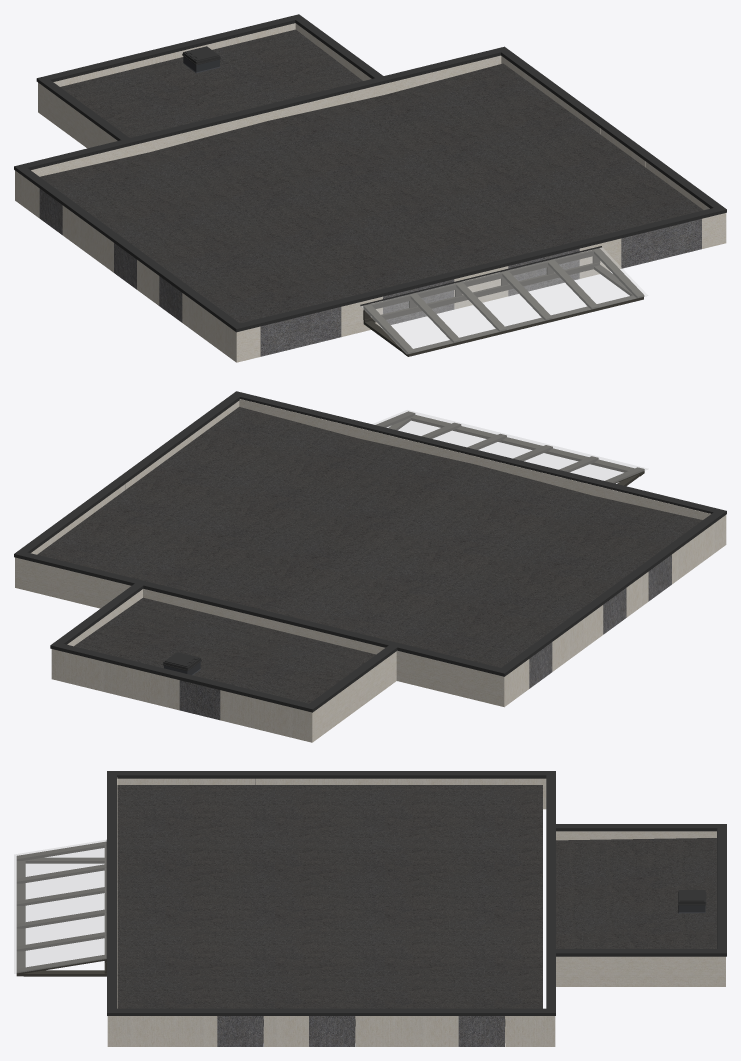
The model's file is Katused v1.glb.
3 views of the same model, one above another, from view 1: azimuth 30°, elevation 25°; view 2: azimuth 150°, elevation 25°; view 3: azimuth 270°, elevation 25° (orthographic).
Visible parts, largest first — view 1: Box201, Kiudtsementplaat_083, Rectangle010, Box200, Box198, Kiudtsementplaat_082, Box195, Box196 (×2), Box192; view 2: Box201, Kiudtsementplaat_083, Rectangle010, Box200, Kiudtsementplaat_082, Box198, Box195, Box192; view 3: Box201, Kiudtsementplaat_083, Box200, Rectangle010, Box198, Kiudtsementplaat_082, Box195, Box193 (×2), Box192, Object005.
Part boxes in pixels (x1,y1,x2,y2): Box201: (40,63,703,323); Kiudtsementplaat_083: (15,55,726,362); Rectangle010: (14,14,726,332); Box200: (60,29,362,137); Box198: (361,247,647,354); Kiudtsementplaat_082: (38,23,371,148); Box195: (363,248,644,354); Box196 (×2): (363,250,599,322); Box192: (403,295,643,356); Box201: (37,407,702,667); Kiudtsementplaat_083: (15,399,726,707); Rectangle010: (14,391,726,712); Box200: (74,597,375,703); Kiudtsementplaat_082: (51,589,396,742); Box198: (373,410,647,482); Box195: (376,411,644,483); Box192: (411,415,644,476); Box201: (117,785,542,1026); Kiudtsementplaat_083: (107,777,555,1046); Box200: (556,838,716,948); Rectangle010: (107,771,726,1015); Box198: (14,840,106,973); Kiudtsementplaat_082: (556,831,725,986); Box195: (16,841,106,973); Box193 (×2): (23,857,106,976); Box192: (16,860,25,976); Object005: (678,890,706,905).
Bounding box in the file's own units: 15.65 × 1.08 × 19.51.
7 materials, 3 textured.
